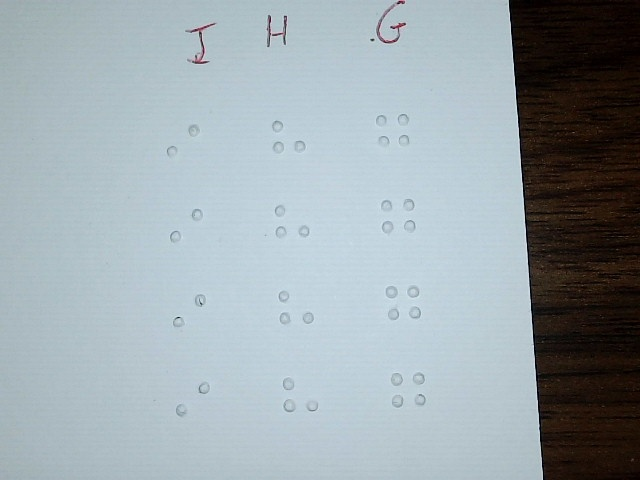G: (374, 102, 412, 169), (379, 186, 417, 253), (384, 273, 422, 340), (389, 359, 427, 426)
H: (271, 108, 309, 175), (274, 194, 312, 261), (277, 279, 315, 346), (282, 366, 320, 433)
I: (165, 113, 203, 180), (168, 197, 206, 264), (174, 372, 212, 439)
